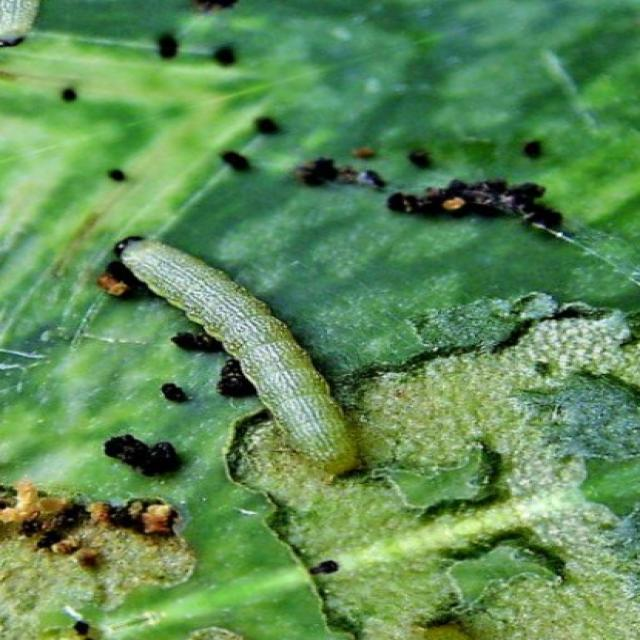Armyworm: (105, 222, 418, 502)
